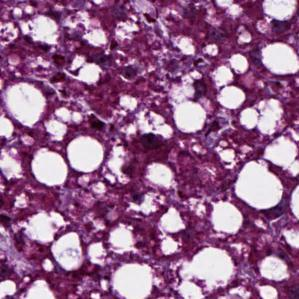steatosis: (235, 163, 286, 210), (30, 144, 69, 191), (65, 131, 107, 174), (171, 97, 207, 135)
